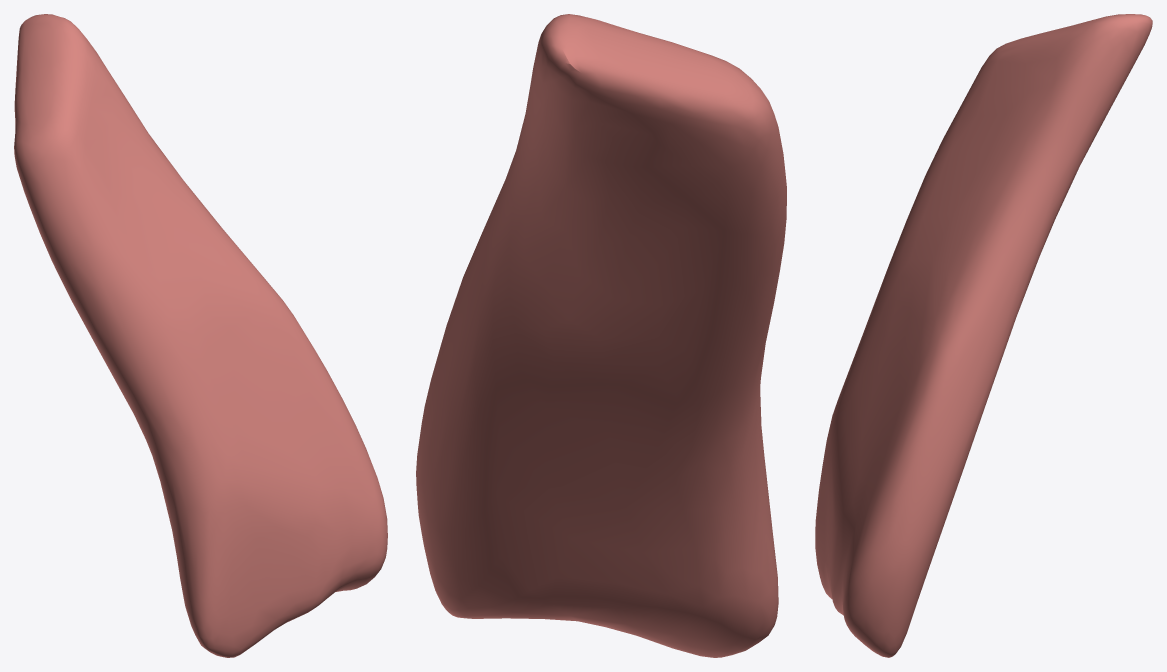
File: fma81571_mm2385.glb
The picture shows the model from 3 angles, left to right: view 1: azimuth 30°, elevation 25°; view 2: azimuth 150°, elevation 25°; view 3: azimuth 270°, elevation 25°; orthographic projection. The views are drawn at different scales.
Visible parts, largest first — view 1: FMA81571_MM2385; view 2: FMA81571_MM2385; view 3: FMA81571_MM2385.
Part boxes in pixels (x1=…): FMA81571_MM2385: x1=14, y1=14, x2=387, y2=657; FMA81571_MM2385: x1=416, y1=14, x2=786, y2=657; FMA81571_MM2385: x1=815, y1=14, x2=1152, y2=657.
Size of the model in its own units: 0.0168 by 0.0294 by 0.016.
